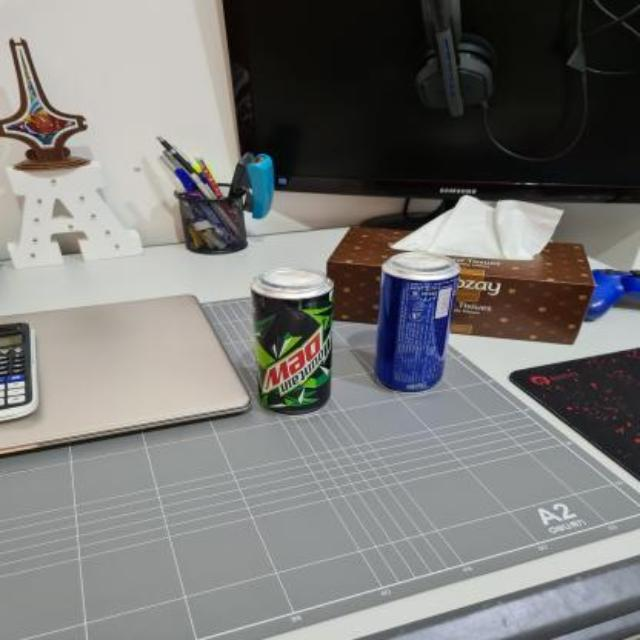cardboard paper: (392, 195, 563, 258)
metal: (252, 268, 332, 414), (374, 252, 457, 391)
